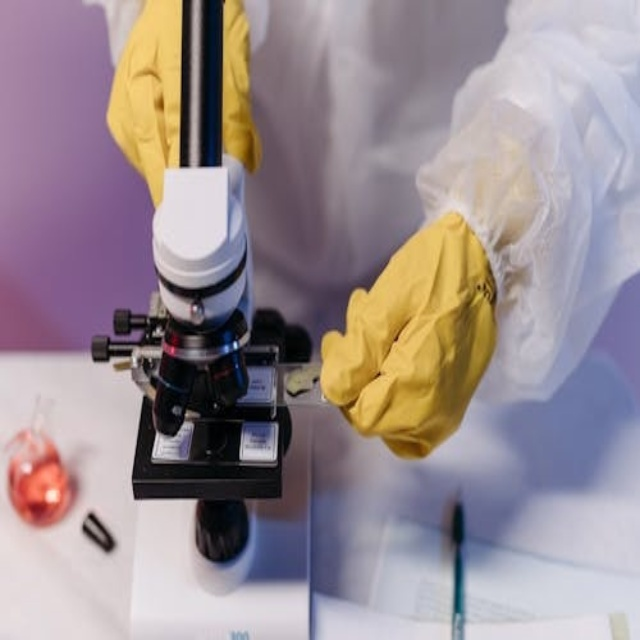Guantes: (318, 211, 499, 461), (103, 1, 262, 210)
